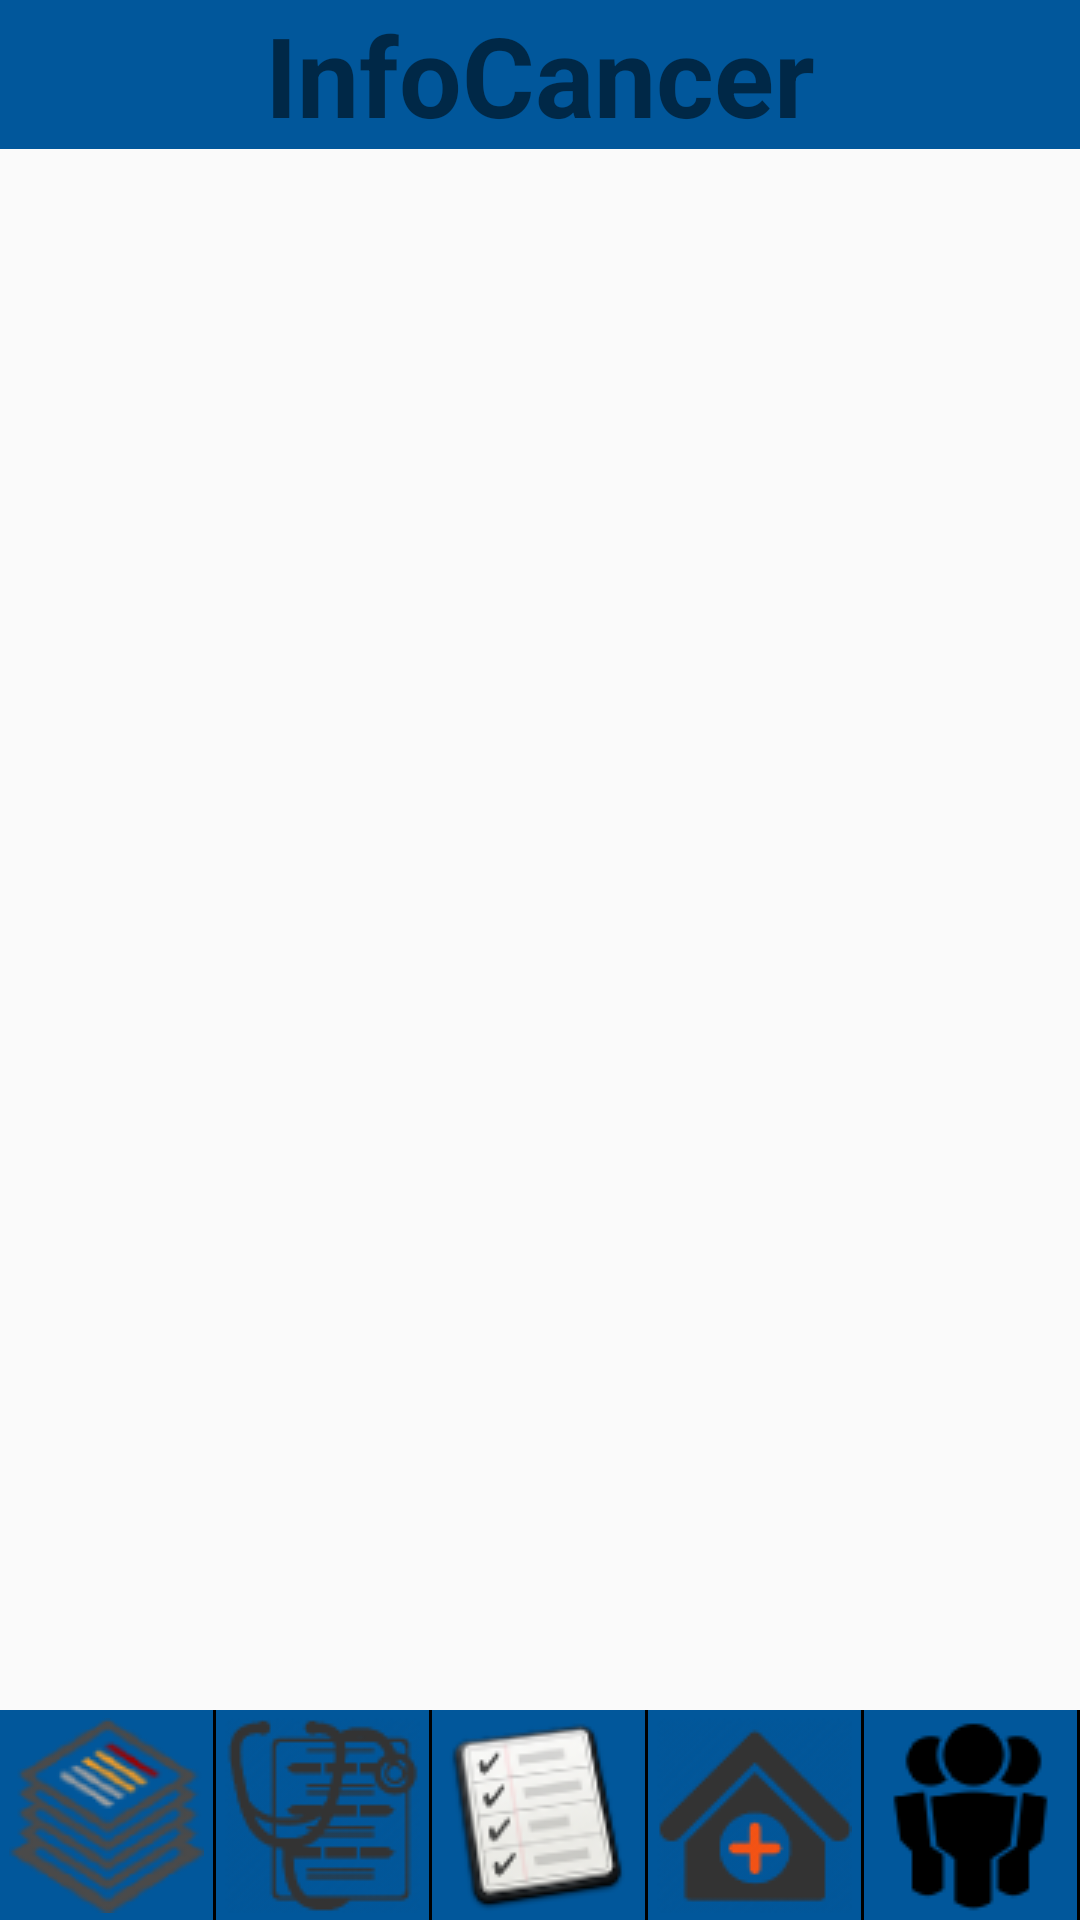

Where to tap for icons on this 1080 × 1920 app screen, as (x,y):
hospital: (755,1816)
info: (106,1815)
ngo: (970,1815)
record: (322,1815)
reminder: (537,1816)
